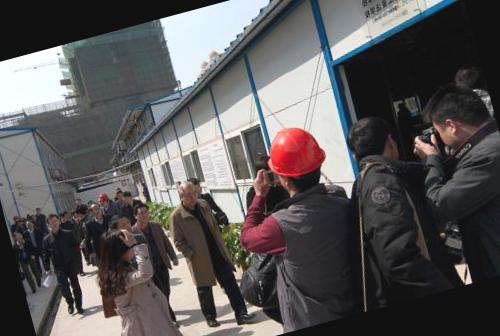no_helmet: (415, 76, 496, 159), (338, 106, 406, 176), (94, 228, 140, 274), (444, 55, 484, 94), (173, 175, 202, 210), (106, 208, 136, 237), (128, 199, 154, 228), (41, 207, 63, 233), (87, 200, 106, 220), (119, 188, 136, 206)
